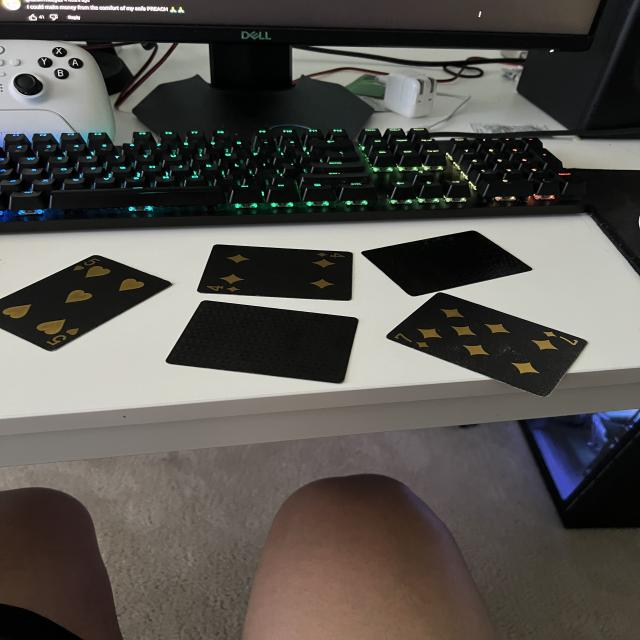4D: (206, 282, 241, 293), (314, 252, 349, 260)
5H: (45, 326, 81, 347), (71, 257, 103, 273)
7D: (392, 333, 432, 350), (540, 329, 580, 345)
BACK: (160, 297, 361, 386), (351, 228, 538, 299)
